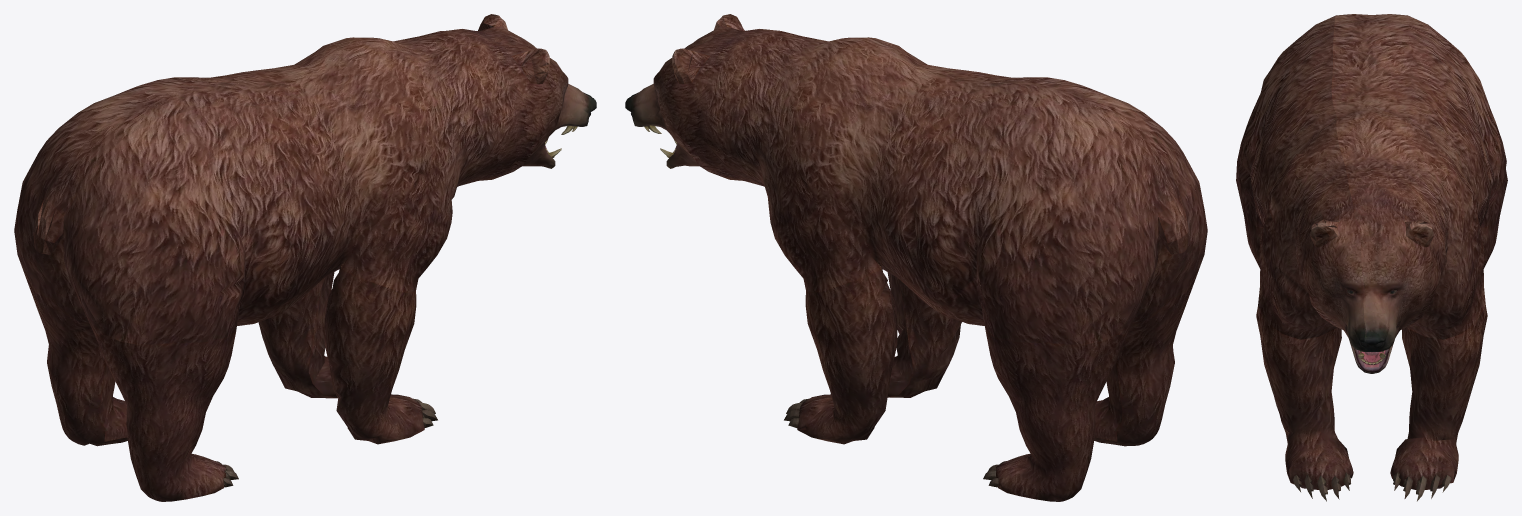
File: bear.glb
The picture shows the model from 3 angles, left to right: view 1: azimuth 30°, elevation 25°; view 2: azimuth 150°, elevation 25°; view 3: azimuth 270°, elevation 25°; orthographic projection. The views are drawn at different scales.
Parts seen in each view (by area): view 1: PFT7TOLW1O68QOYQM5AT957UC.001_mat_0-bear_co.jpg_0.001; view 2: PFT7TOLW1O68QOYQM5AT957UC.001_mat_0-bear_co.jpg_0.001; view 3: PFT7TOLW1O68QOYQM5AT957UC.001_mat_0-bear_co.jpg_0.001.
Part boxes in pixels (bbox=[...]): PFT7TOLW1O68QOYQM5AT957UC.001_mat_0-bear_co.jpg_0.001: bbox=[14, 14, 596, 501]; PFT7TOLW1O68QOYQM5AT957UC.001_mat_0-bear_co.jpg_0.001: bbox=[625, 14, 1207, 501]; PFT7TOLW1O68QOYQM5AT957UC.001_mat_0-bear_co.jpg_0.001: bbox=[1236, 14, 1507, 501].
Bounding box in the file's own units: 2 × 1.28 × 0.8653.
Materials: 1 (1 with a texture image).
